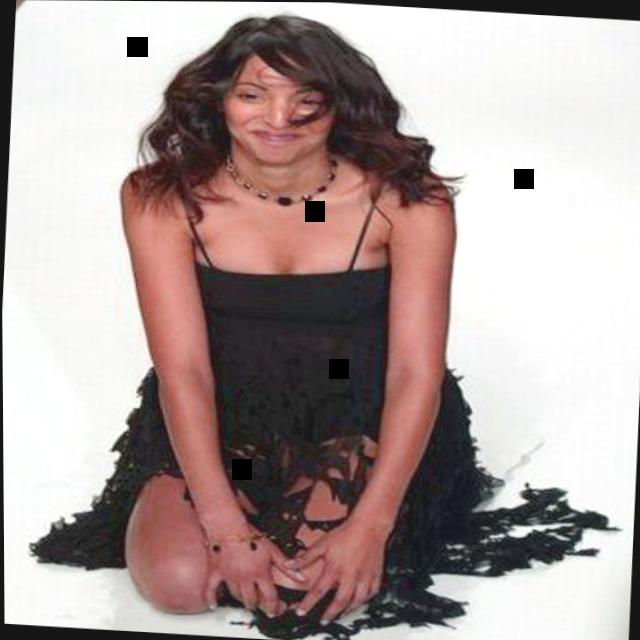Fall-Detected: (13, 0, 563, 632)
